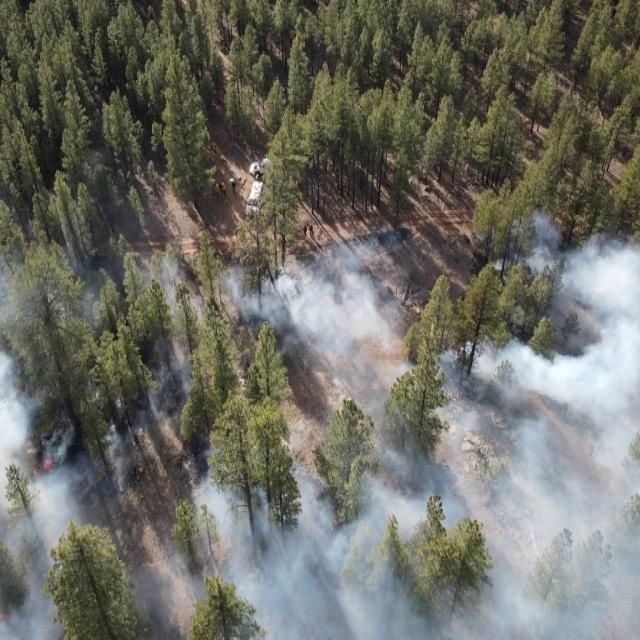fire: (31, 456, 56, 476), (328, 517, 338, 534)
smoke: (0, 211, 640, 640)
